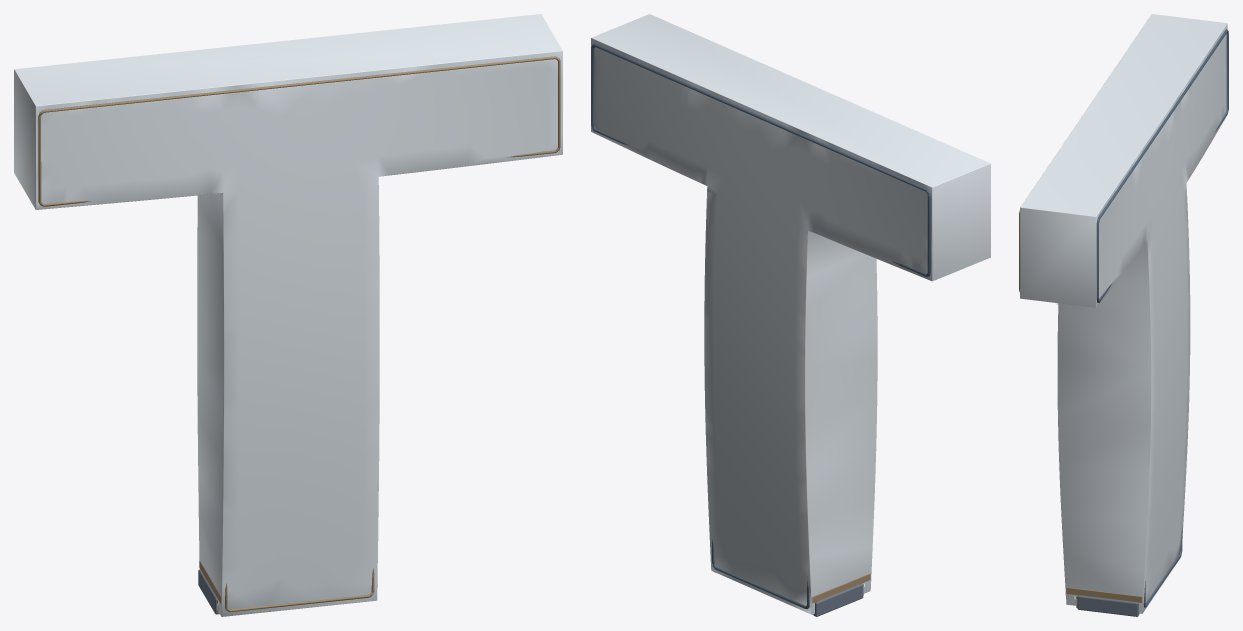
Rendered from tem-identity-v21.glb.
3 renders of one model, left to right at view 1: azimuth 30°, elevation 25°; view 2: azimuth 150°, elevation 25°; view 3: azimuth 270°, elevation 25°, orthographic. The views are drawn at different scales.
Parts seen in each view (by area): view 1: T_IDENTITY_V19_GLASS_V19 — V21 thick optical crystal, T_IDENTITY_V19_V21_CHAMPAGNE — fine contact plating; view 2: T_IDENTITY_V19_GLASS_V19 — V21 thick optical crystal, T_IDENTITY_V19_V21_TITANIUM — cool precision alloy, T_IDENTITY_V19_V21_CONTACT_TITANIUM — bead-blasted optical s; view 3: T_IDENTITY_V19_GLASS_V19 — V21 thick optical crystal, T_IDENTITY_V19_V21_TITANIUM — cool precision alloy, T_IDENTITY_V19_V21_CONTACT_TITANIUM — bead-blasted optical s, T_IDENTITY_V19_V21_CHAMPAGNE — fine contact plating.
Boxes of the visible parts, x1=… form: T_IDENTITY_V19_GLASS_V19 — V21 thick optical crystal: x1=14, y1=14, x2=562, y2=616; T_IDENTITY_V19_V21_CHAMPAGNE — fine contact plating: x1=38, y1=56, x2=560, y2=613; T_IDENTITY_V19_GLASS_V19 — V21 thick optical crystal: x1=591, y1=14, x2=990, y2=614; T_IDENTITY_V19_V21_TITANIUM — cool precision alloy: x1=591, y1=43, x2=930, y2=609; T_IDENTITY_V19_V21_CONTACT_TITANIUM — bead-blasted optical s: x1=715, y1=572, x2=863, y2=616; T_IDENTITY_V19_GLASS_V19 — V21 thick optical crystal: x1=1020, y1=14, x2=1227, y2=613; T_IDENTITY_V19_V21_TITANIUM — cool precision alloy: x1=1096, y1=29, x2=1228, y2=607; T_IDENTITY_V19_V21_CONTACT_TITANIUM — bead-blasted optical s: x1=1077, y1=595, x2=1139, y2=616; T_IDENTITY_V19_V21_CHAMPAGNE — fine contact plating: x1=1019, y1=210, x2=1142, y2=607.
Size of the model in its own units: 14.29 by 15.4 by 6.25.
